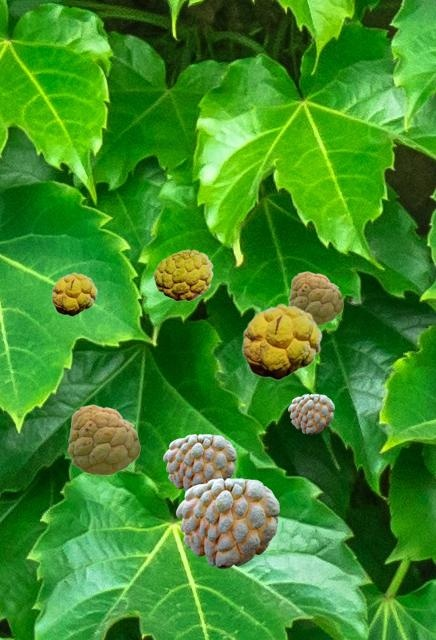atis: (176, 478, 278, 567), (241, 303, 321, 379), (67, 404, 139, 474), (163, 434, 235, 492), (153, 249, 212, 300), (288, 271, 342, 324), (51, 272, 96, 315), (288, 394, 333, 433)
